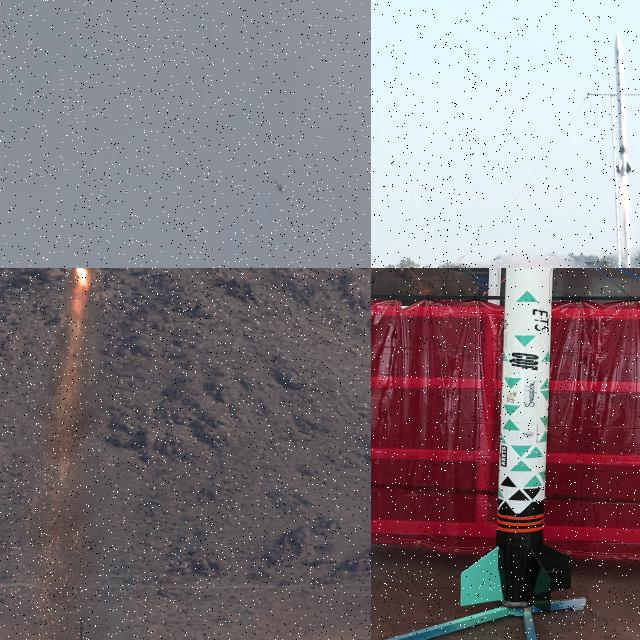Rocket: (460, 268, 571, 615), (613, 35, 633, 179), (274, 180, 282, 193)
